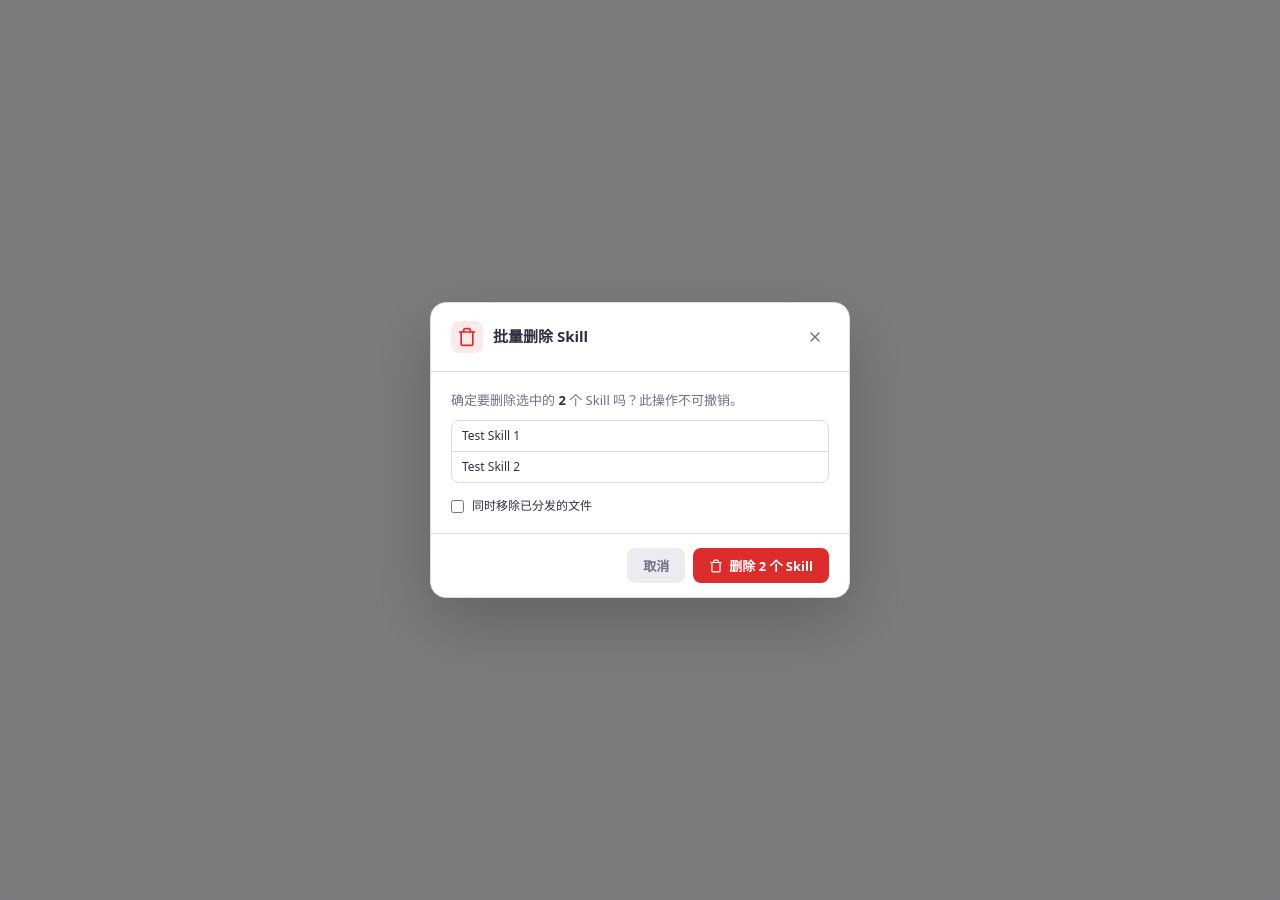
ConfirmBatchDeleteModal › checking remove distributed shows platform selection
Click the checkbox with class "remove-distributed-checkbox" at (458, 506), box [451,500,464,513]
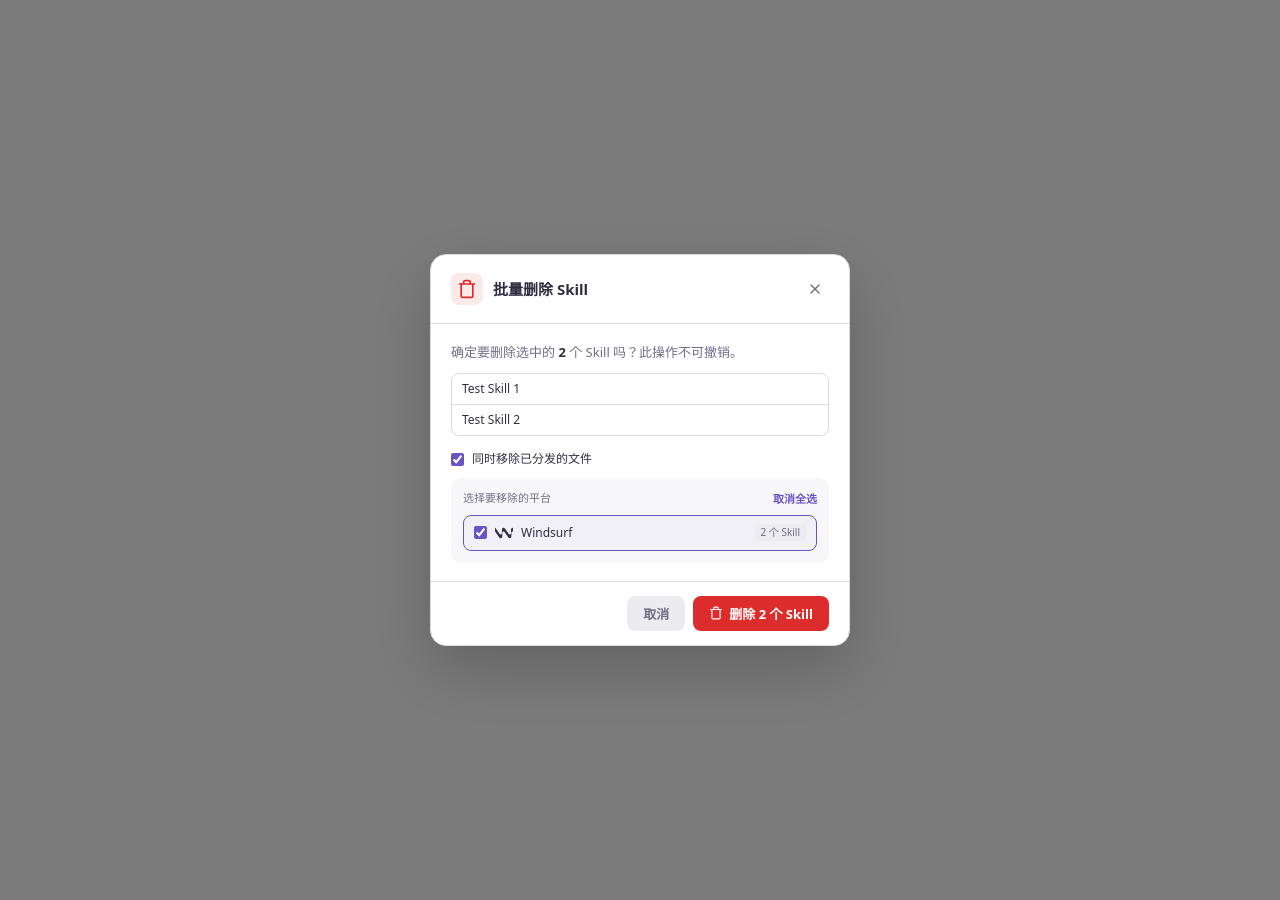
Check: the element showing "选择要移除的平台 取消全选 Windsurf 2 个 Skill" is shown, box [451,478,829,563]
Check: the text "Windsurf" is shown, box [521,524,572,541]
